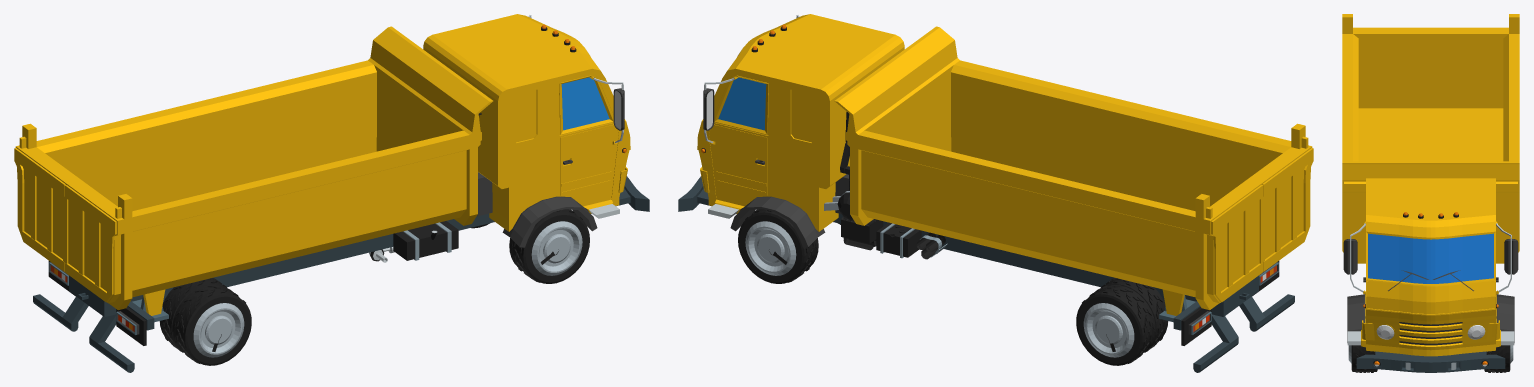
File: dumptruck.gltf
The picture shows the model from 3 angles, left to right: view 1: azimuth 30°, elevation 25°; view 2: azimuth 150°, elevation 25°; view 3: azimuth 270°, elevation 25°; orthographic projection. The views are drawn at different scales.
Visible parts, largest first — view 1: Cube.001, Cube.009, Cylinder.002, Cylinder.003, Cube.004; view 2: Cube.001, Cube.009, Cylinder.002, Cylinder.003, Cube.006, Cube.007, Cube.008, Cube.005; view 3: Cube.001, Cube.009, Cylinder.003.
Boxes of the visible parts, x1,y1,x2,y2 form: Cube.001: (14, 26, 493, 322); Cube.009: (33, 14, 649, 372); Cylinder.002: (159, 278, 251, 365); Cylinder.003: (471, 209, 589, 283); Cube.004: (393, 221, 458, 260); Cube.001: (834, 26, 1313, 322); Cube.009: (678, 14, 1294, 372); Cylinder.002: (1076, 278, 1168, 365); Cylinder.003: (738, 209, 840, 283); Cube.006: (876, 222, 921, 258); Cube.007: (841, 216, 883, 250); Cube.008: (824, 112, 853, 220); Cube.005: (916, 232, 947, 259); Cube.001: (1342, 14, 1519, 263); Cube.009: (1343, 178, 1518, 372); Cylinder.003: (1348, 345, 1513, 372).
Bounding box in the file's own units: 21.34 × 7.55 × 6.83.
1 material, 1 textured.
